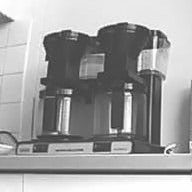empty coffee: (93, 82, 151, 140)
